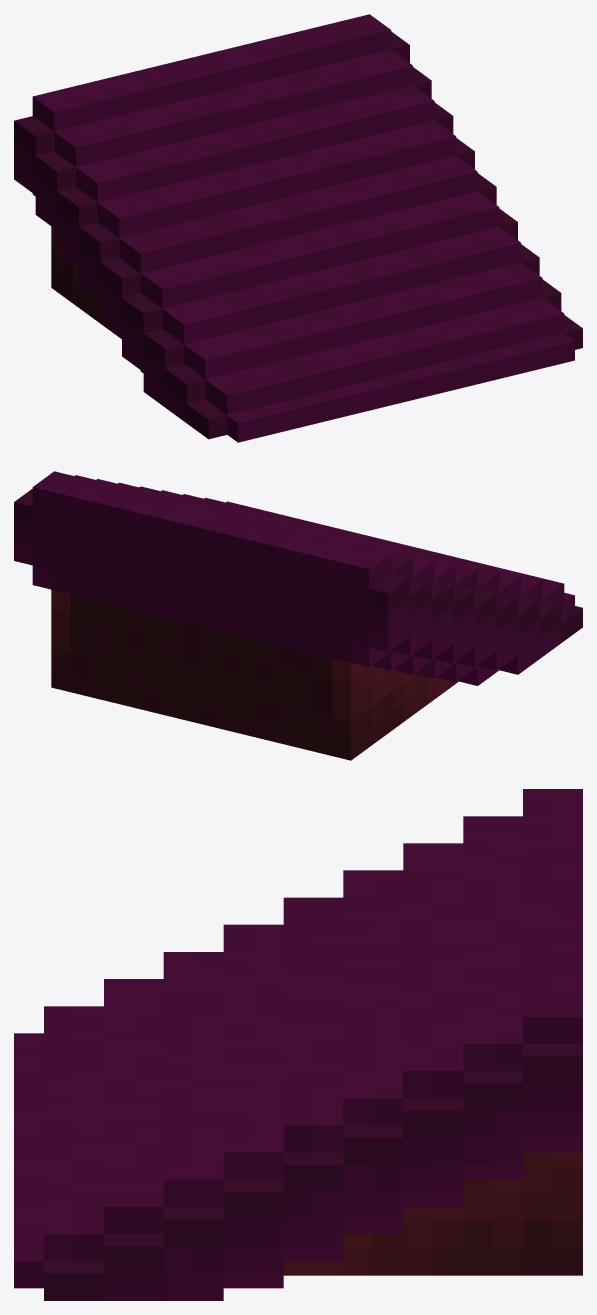
The model's file is half_top_ramp_bot.glb.
3 views of the same model, one above another, from view 1: azimuth 30°, elevation 25°; view 2: azimuth 150°, elevation 25°; view 3: azimuth 270°, elevation 25° (orthographic). The views are drawn at different scales.
Parts seen in each view (by area): view 1: half_top_ramp_bot; view 2: half_top_ramp_bot; view 3: half_top_ramp_bot.
Boxes of the visible parts, <box> form: half_top_ramp_bot: <box>14,14,582,442</box>; half_top_ramp_bot: <box>14,471,582,760</box>; half_top_ramp_bot: <box>14,789,582,1300</box>.
Bounding box in the file's own units: 2 × 1 × 1.9.
1 material, 1 textured.
